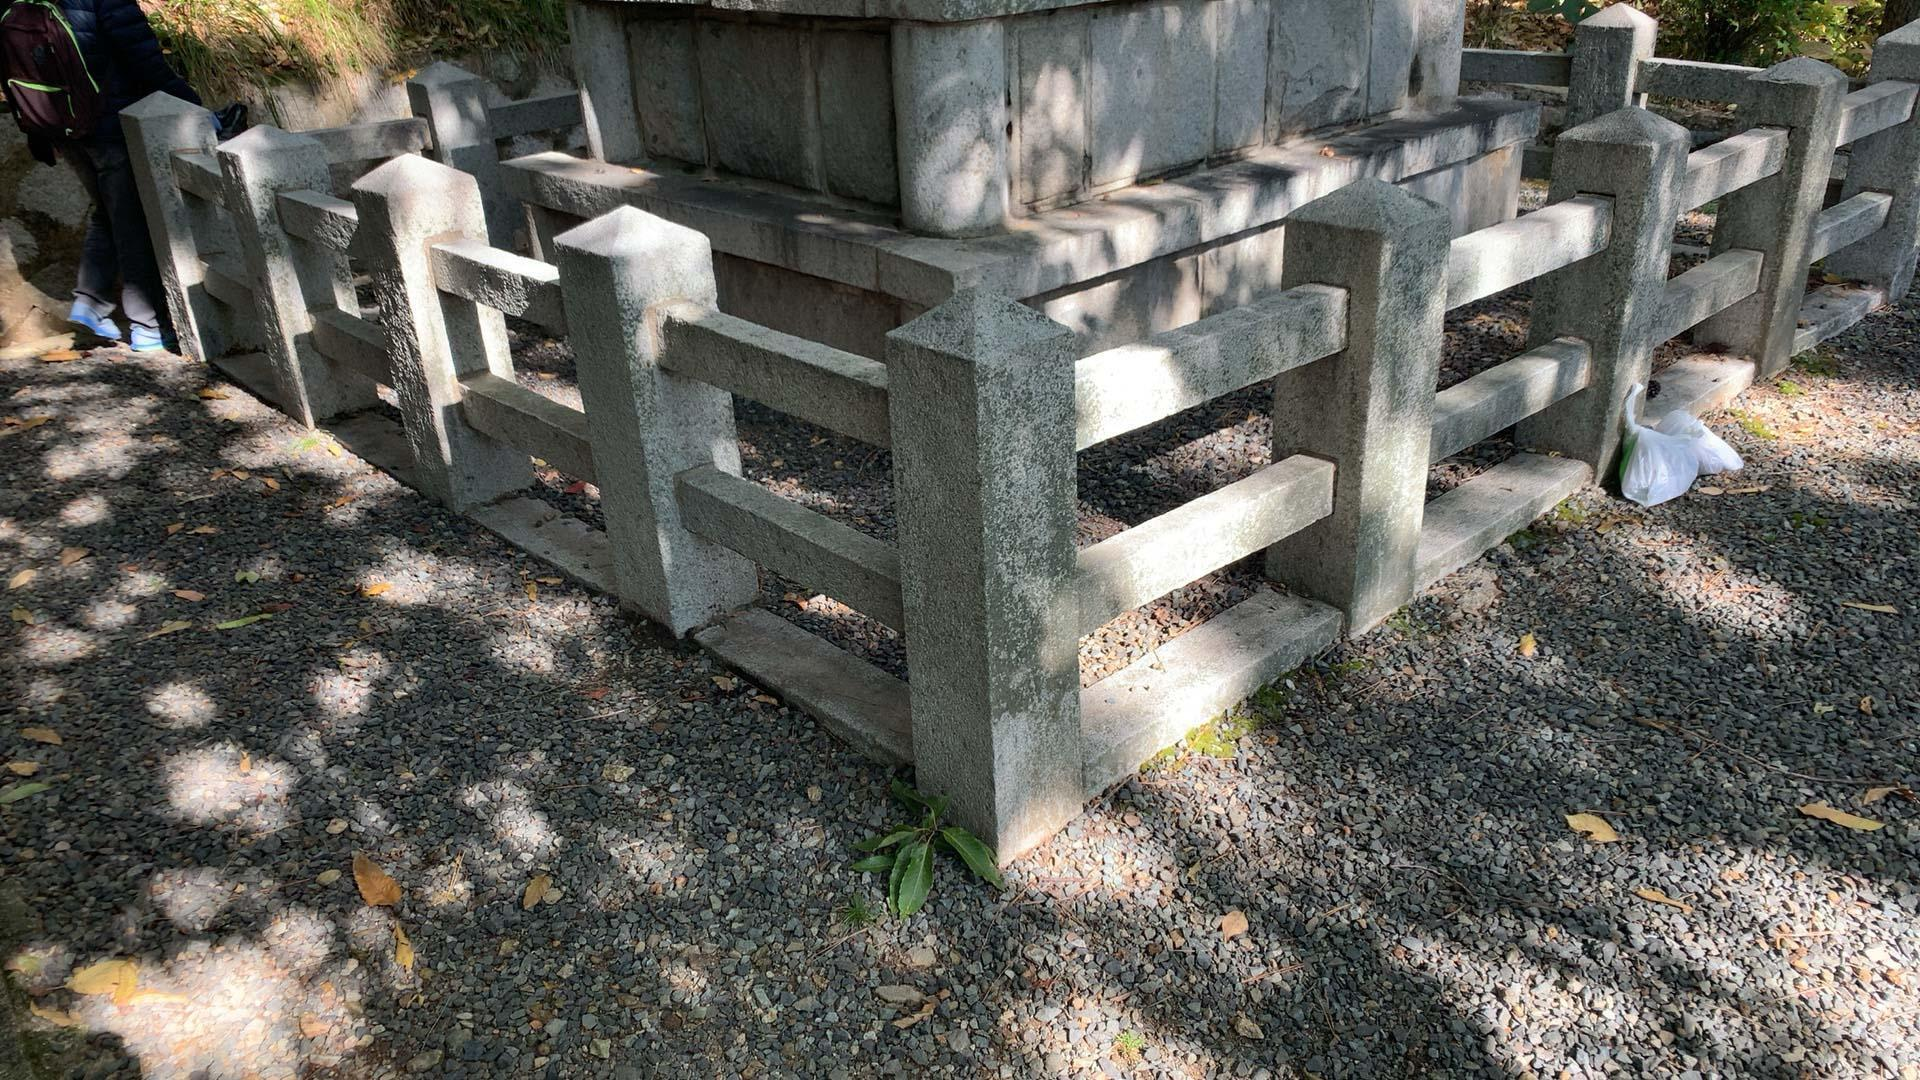white_bag: (1615, 382, 1713, 510), (1655, 406, 1747, 480)
